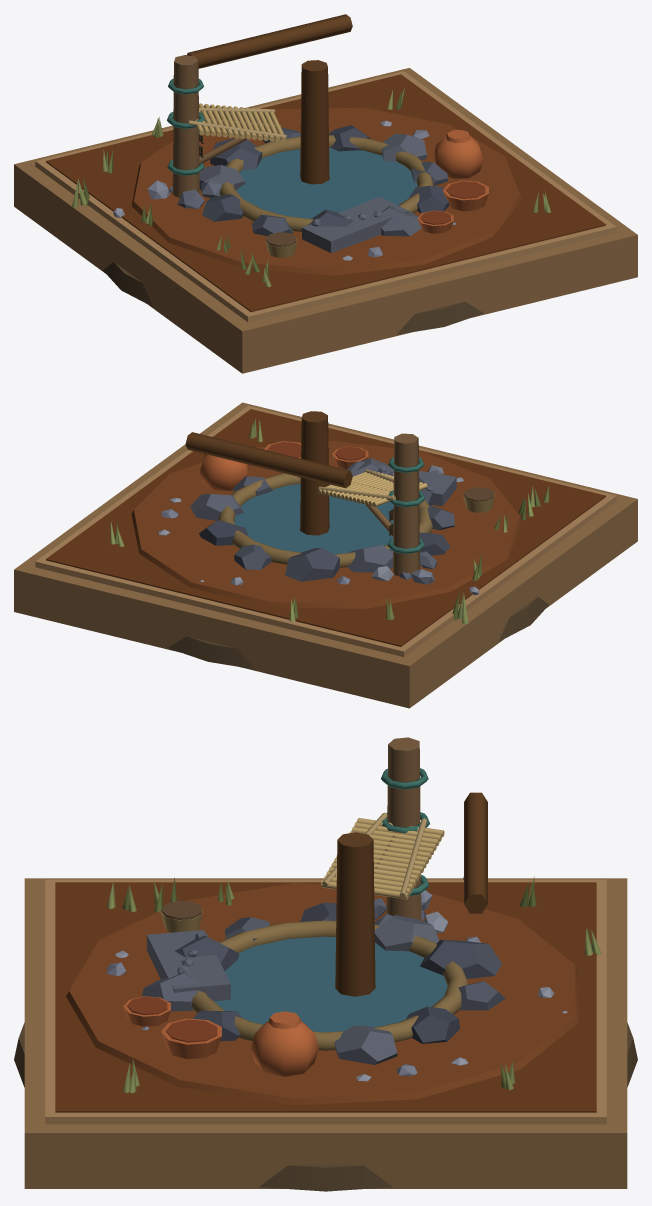
The model's file is civic-water-spring-built.glb.
The picture shows the model from 3 angles, top to bottom: view 1: azimuth 30°, elevation 25°; view 2: azimuth 150°, elevation 25°; view 3: azimuth 270°, elevation 25°; orthographic projection. The views are drawn at different scales.
Visible parts, largest first — view 1: mesh_0, mesh_21, mesh_22, Era1DepthKit, mesh_1, mesh_24, mesh_43, mesh_36, mesh_80, mesh_32, mesh_35, mesh_27 (+7 smaller); view 2: mesh_0, mesh_22, mesh_21, Era1DepthKit, mesh_1, mesh_24, mesh_43, mesh_32, mesh_80, mesh_36, mesh_35, mesh_31 (+4 smaller); view 3: mesh_0, mesh_22, mesh_21, Era1DepthKit, mesh_1, mesh_24, mesh_43, mesh_36, mesh_80, mesh_32, mesh_35, mesh_31 (+9 smaller).
Boxes of the visible parts, x1,y1,x2,y2 form: mesh_0: [14, 68, 637, 373]; mesh_21: [46, 74, 605, 312]; mesh_22: [131, 107, 522, 275]; Era1DepthKit: [103, 14, 483, 334]; mesh_1: [35, 71, 616, 322]; mesh_24: [236, 147, 417, 218]; mesh_43: [172, 55, 199, 198]; mesh_36: [301, 197, 408, 253]; mesh_80: [433, 135, 483, 179]; mesh_32: [210, 138, 262, 171]; mesh_35: [382, 133, 426, 162]; mesh_27: [381, 205, 421, 236]; mesh_0: [14, 402, 637, 708]; mesh_22: [131, 441, 522, 608]; mesh_21: [46, 409, 605, 646]; Era1DepthKit: [168, 411, 548, 669]; mesh_1: [35, 406, 616, 656]; mesh_24: [234, 484, 393, 554]; mesh_43: [393, 433, 419, 575]; mesh_32: [285, 548, 339, 581]; mesh_80: [199, 454, 249, 490]; mesh_36: [351, 461, 456, 506]; mesh_35: [190, 494, 243, 520]; mesh_31: [347, 544, 392, 572]; mesh_0: [24, 878, 627, 1188]; mesh_22: [66, 883, 578, 1105]; mesh_21: [55, 882, 596, 1112]; Era1DepthKit: [14, 792, 637, 1191]; mesh_1: [45, 879, 606, 1124]; mesh_24: [214, 937, 447, 1032]; mesh_43: [386, 737, 421, 919]; mesh_36: [146, 930, 230, 1001]; mesh_80: [250, 1021, 318, 1076]; mesh_32: [420, 939, 501, 978]; mesh_35: [334, 1025, 397, 1064]; mesh_31: [374, 915, 439, 951].
Size of the model in its own units: 9.11 by 3.97 by 9.11.
